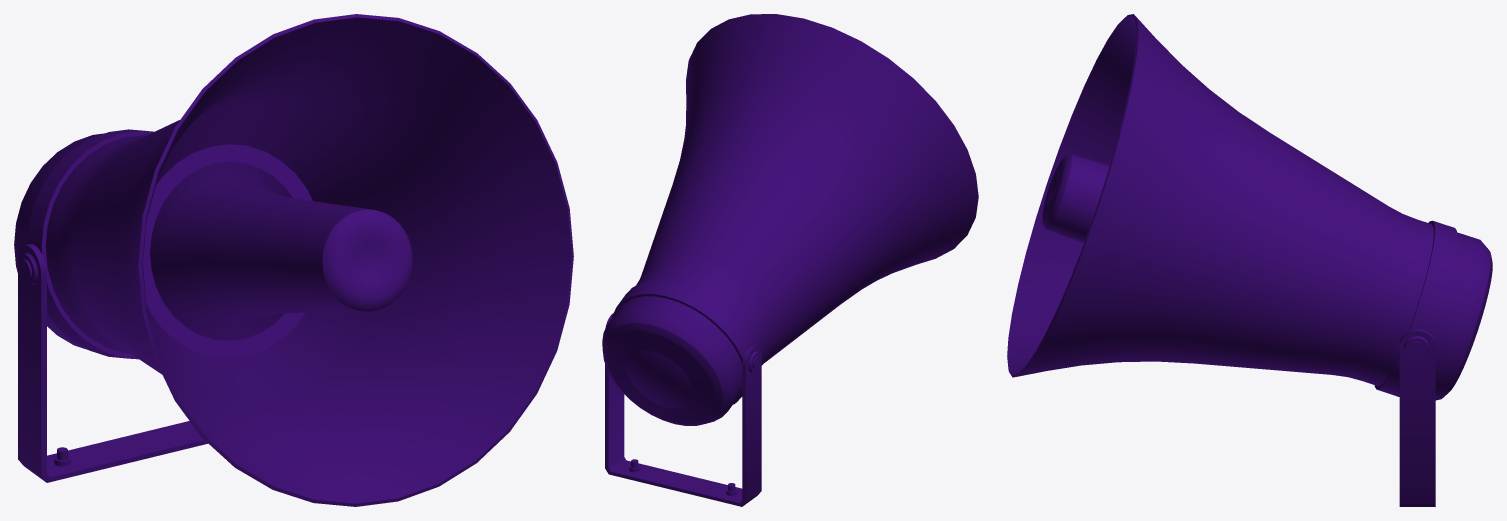
File: Speaker.fbx
3 renders of one model, left to right at view 1: azimuth 30°, elevation 25°; view 2: azimuth 150°, elevation 25°; view 3: azimuth 270°, elevation 25°, orthographic. The views are drawn at different scales.
Visible parts, largest first — view 1: Loudspeaker_Low; view 2: Loudspeaker_Low; view 3: Loudspeaker_Low.
Part boxes in pixels (x1,y1,x2,y2): Loudspeaker_Low: (14,14,573,506); Loudspeaker_Low: (602,14,978,506); Loudspeaker_Low: (1007,14,1492,506).
Bounding box in the file's own units: 12.96 × 16.29 × 16.42.
